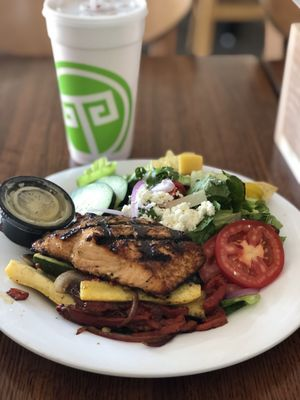pizza: (41, 0, 148, 166)
